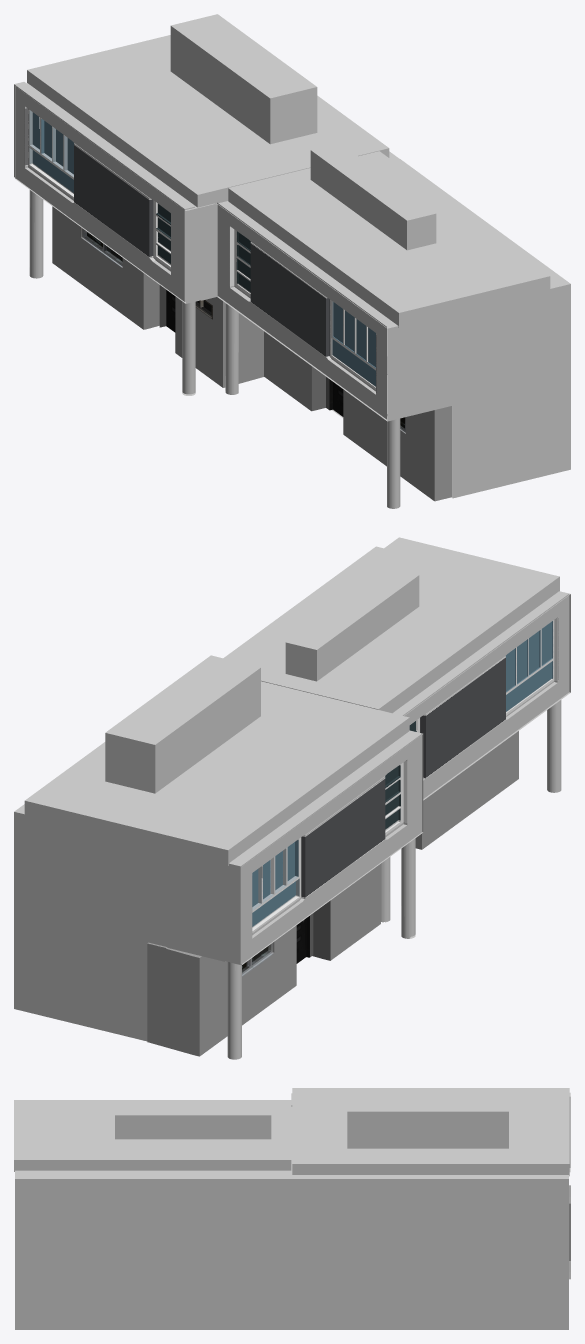
The model's file is Venecia1.fbx.
3 renders of one model, top to bottom at view 1: azimuth 30°, elevation 25°; view 2: azimuth 150°, elevation 25°; view 3: azimuth 270°, elevation 25°, orthographic. The views are drawn at different scales.
Parts seen in each view (by area): view 1: Plano.013, Plano.001, Plano.004, Plano.003, Plano; view 2: Plano.013, Plano.001, Plano.003, Plano.004, Plano; view 3: Plano.013.
Part boxes in pixels (x1,y1,x2,y2): Plano.013: (15, 14, 570, 508); Plano.001: (14, 82, 194, 301); Plano.004: (217, 202, 386, 419); Plano.003: (52, 206, 263, 387); Plano: (264, 331, 452, 501); Plano.013: (14, 537, 570, 1059); Plano.001: (229, 731, 421, 964); Plano.003: (147, 864, 380, 1056); Plano.004: (403, 594, 569, 798); Plano: (415, 731, 518, 849); Plano.013: (14, 1088, 569, 1329).
Size of the model in its own units: 1455 by 1595 by 4015.
3 materials, 3 textured.
